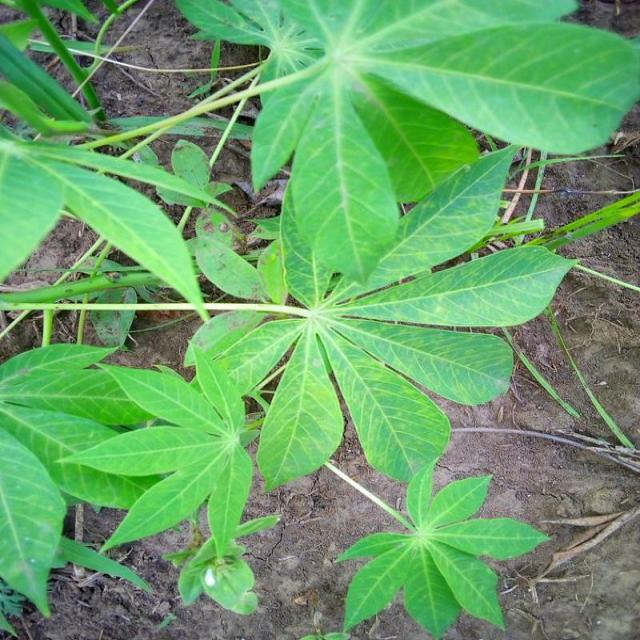cassava leaf: (0, 1, 638, 633), (176, 0, 638, 299), (333, 460, 550, 638)
